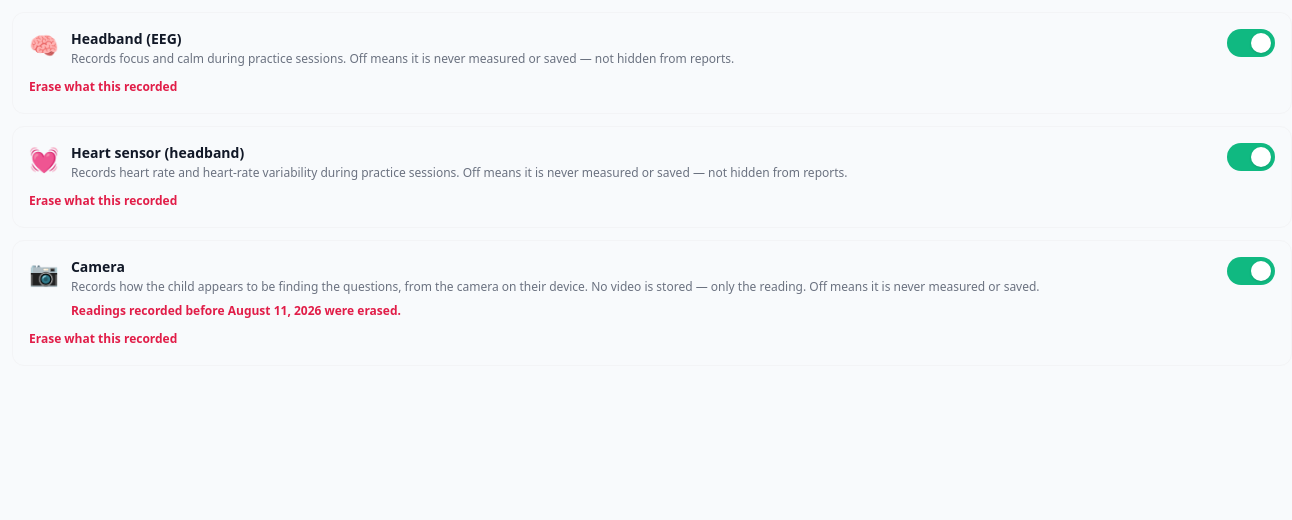
erasing stored readings › says so when an archived chart could not be removed
Expected: the text "Camera" is shown, [71,257,125,276]
Click the button "Erase what this recorded" below "Readings recorded before": (103, 339) [29,331,177,347]
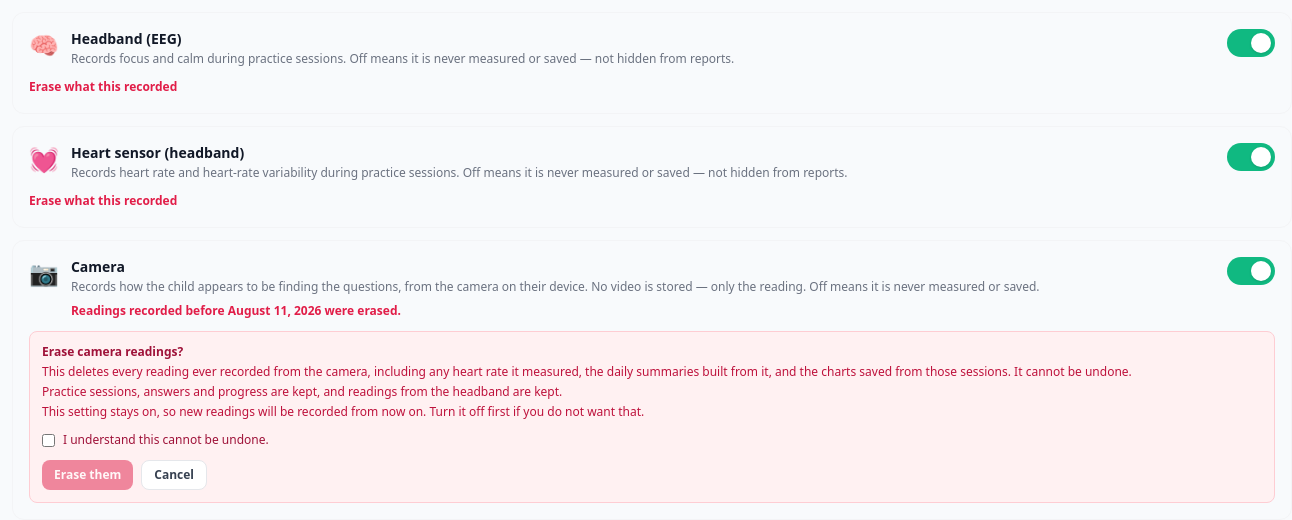
Click the checkbox: (48, 440) [42,434,55,447]
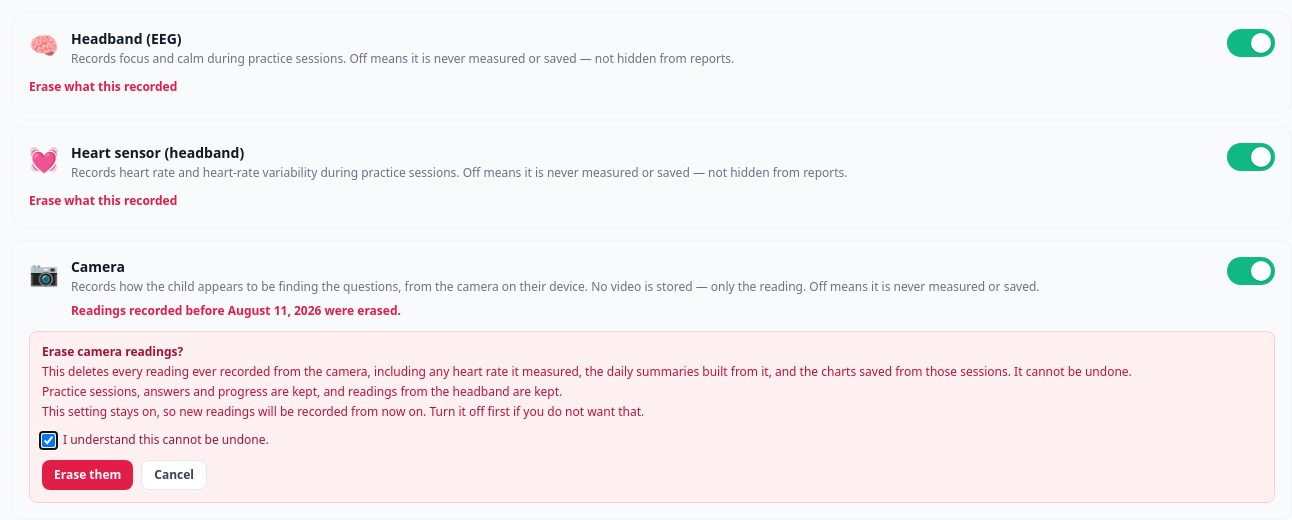
Click the button "Erase them": (88, 475) [42,460,133,490]
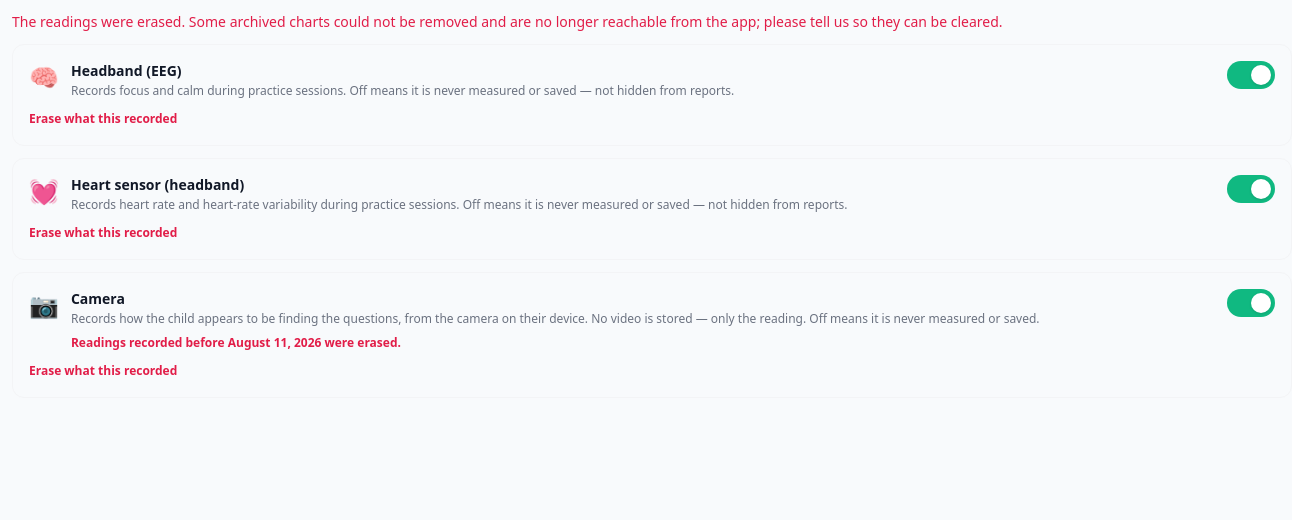
Now the text "Some archived charts could not be removed" is shown, box [12,12,1003,31]
